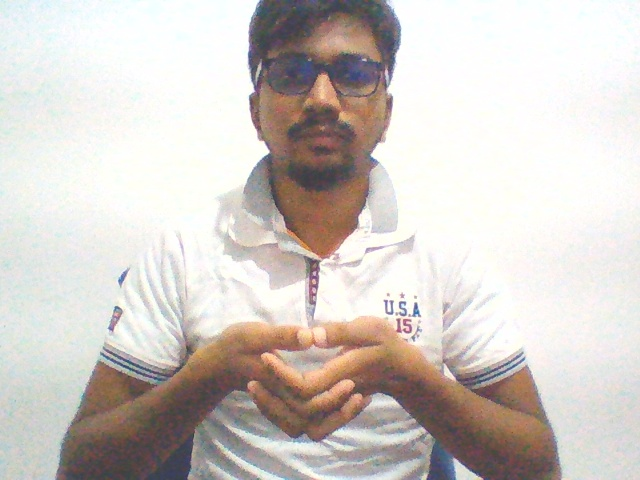mangosteen: (193, 312, 419, 451)
